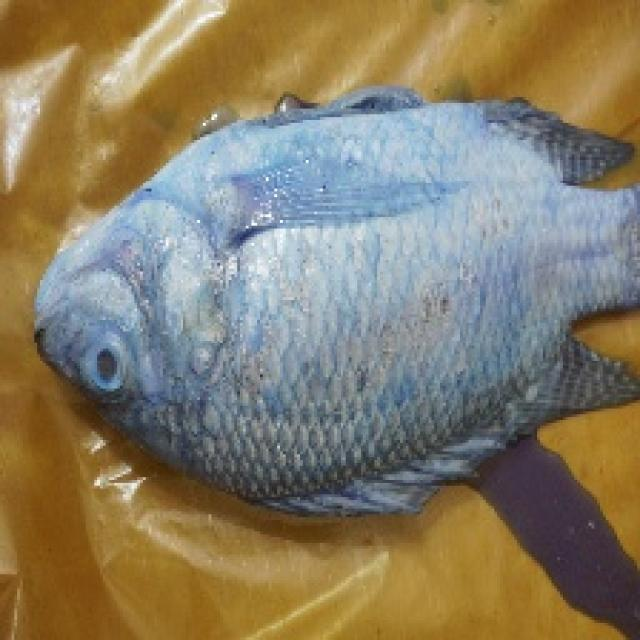Non-Fresh: (34, 137, 640, 527), (67, 304, 169, 409)
